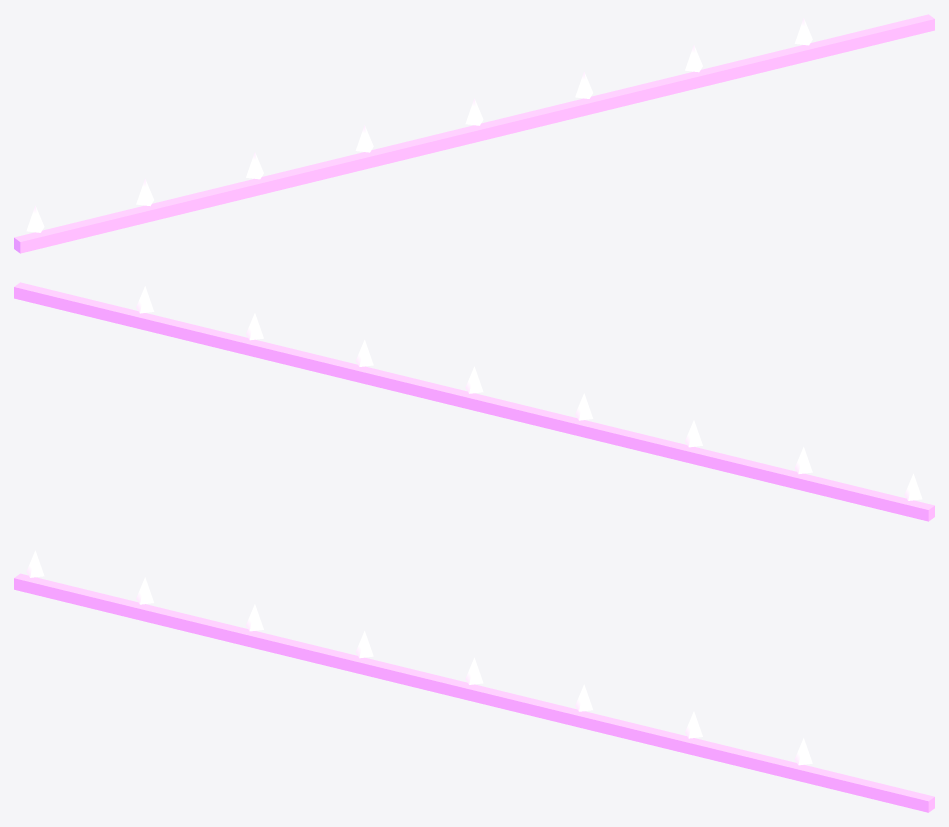
The model's file is gravitySeam.glb.
3 views of the same model, one above another, from view 1: azimuth 30°, elevation 25°; view 2: azimuth 150°, elevation 25°; view 3: azimuth 330°, elevation 25° (orthographic).
Visible parts, largest first — view 1: LOD0; view 2: LOD0; view 3: LOD0.
Boxes of the visible parts, x1=… form: LOD0: x1=14, y1=14, x2=934, y2=253; LOD0: x1=14, y1=282, x2=934, y2=521; LOD0: x1=14, y1=573, x2=934, y2=812.
Size of what is drawn, in the model's own units: 100 by 4.36 by 2.
